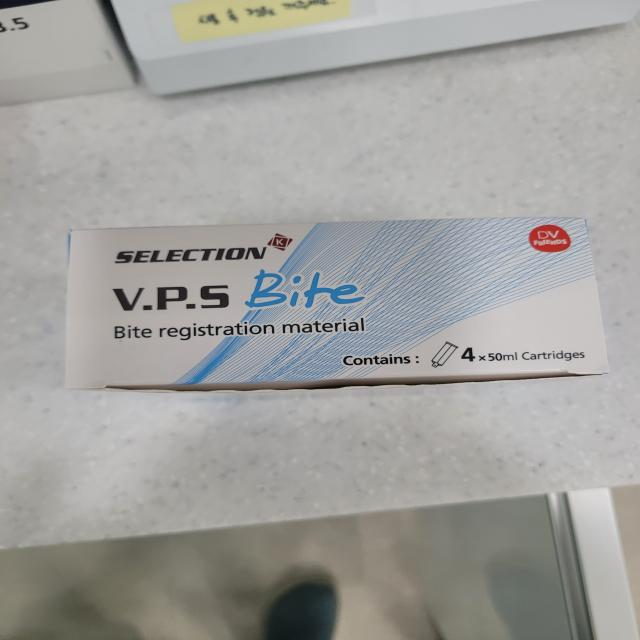impression: (43, 216, 640, 412)
